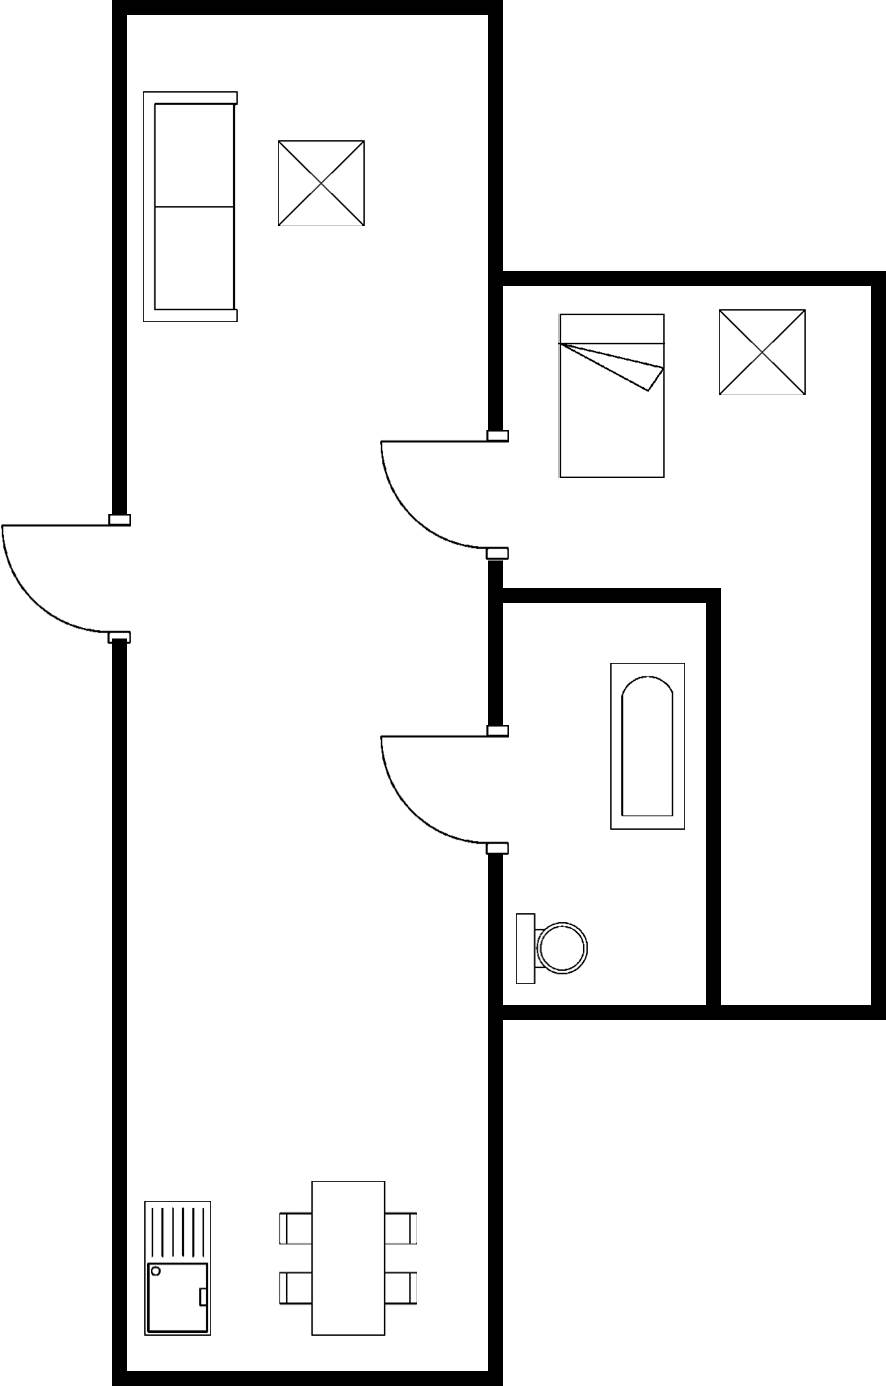bed: (553, 306, 673, 488)
coffee_table: (268, 133, 373, 238), (714, 303, 811, 404)
dining_table: (274, 1172, 426, 1342)
large_sink: (508, 906, 593, 990)
large_sofa: (135, 79, 247, 334)
sink: (138, 1195, 220, 1346)
tub: (603, 656, 693, 837)
